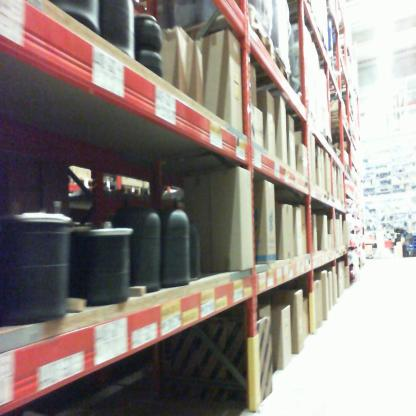pallet: (181, 4, 286, 65), (179, 53, 294, 87), (289, 28, 332, 71), (62, 167, 99, 193), (96, 174, 123, 196), (126, 182, 141, 200), (322, 133, 335, 152)
